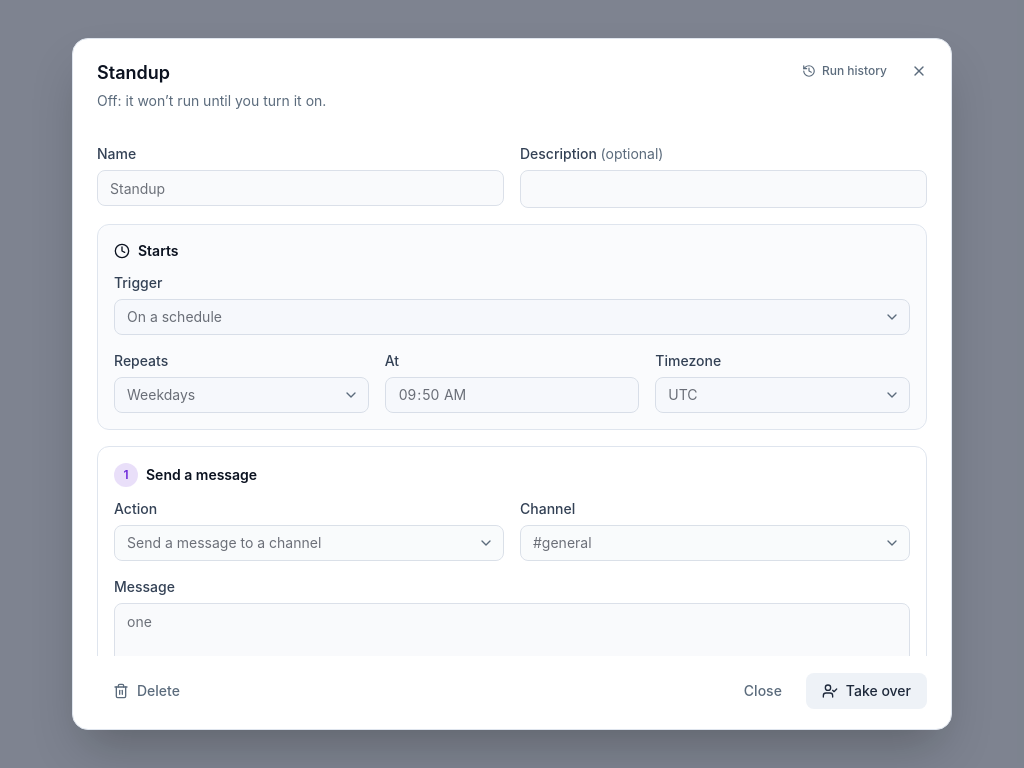
it: WorkflowEditor › lets an admin take over a workflow whose builder is gone, then edit it
Expected: the field with test id "workflow-name" is disabled, [97, 170, 504, 206]
Click the button with test id "workflow-take-over": [866, 691] box [806, 673, 927, 709]
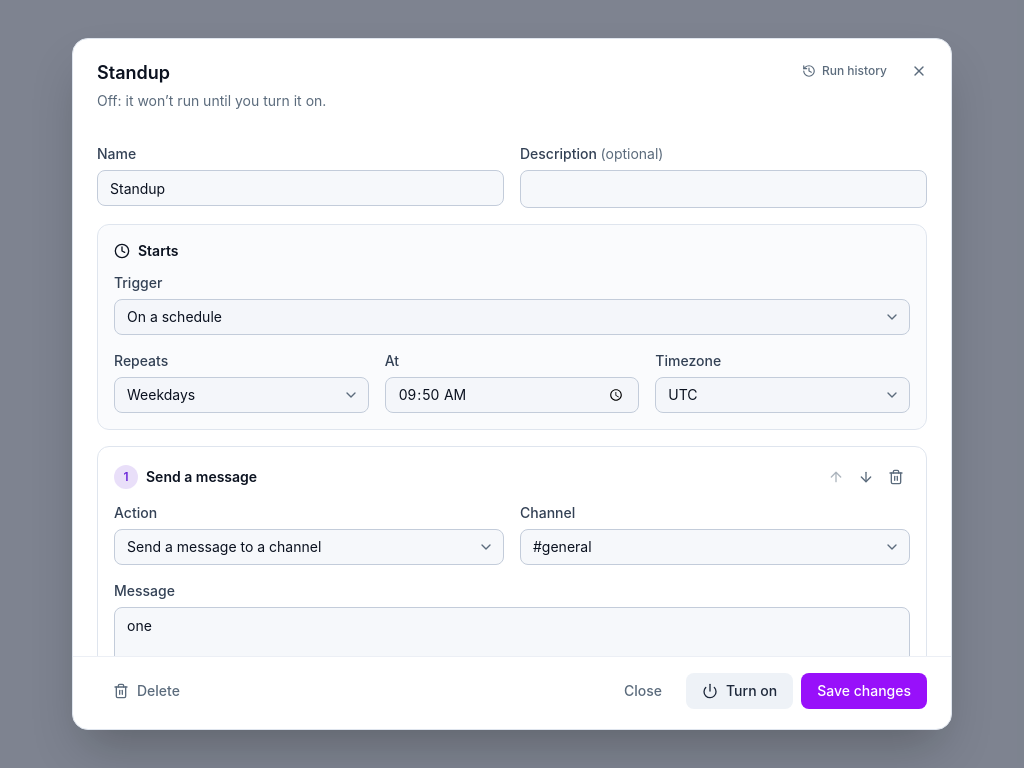
Now the field with test id "workflow-name" is enabled, box [97, 170, 504, 206]
Now the button with test id "workflow-enable" is shown, box [686, 673, 793, 709]
Now the button with test id "workflow-take-over" is gone
